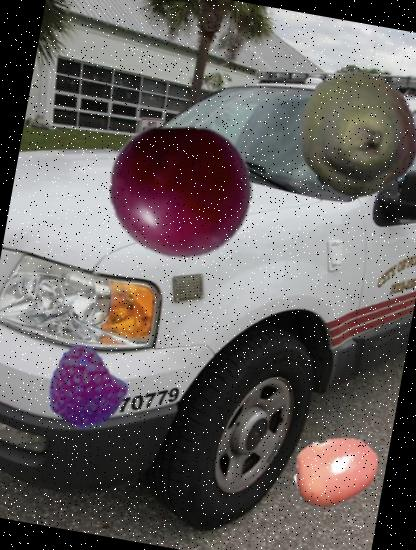Cherry: (98, 109, 264, 276)
Kaki: (286, 420, 387, 522)
Pear: (283, 61, 416, 208)
Raspberry: (38, 342, 131, 435)
